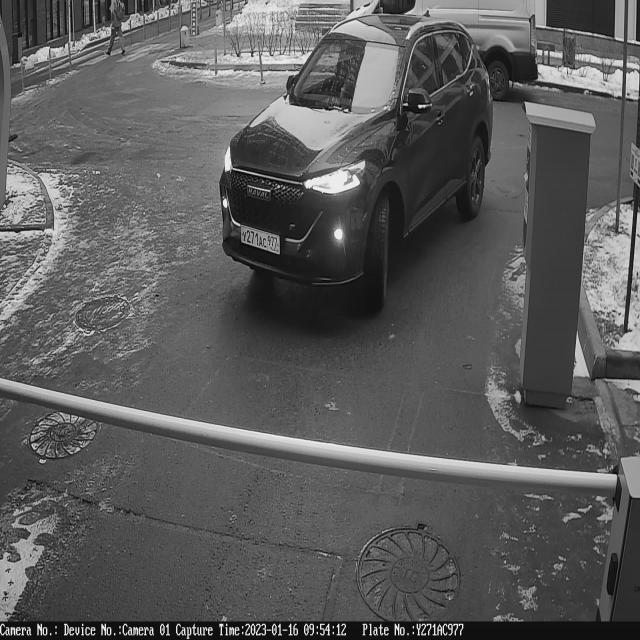car-plate-numbers: (240, 221, 283, 257)
